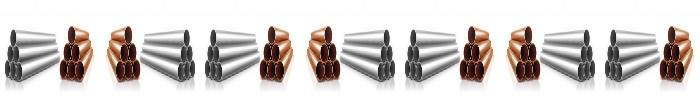pipe: (324, 61, 333, 80), (267, 61, 276, 80), (467, 61, 476, 80), (124, 61, 133, 80), (524, 61, 533, 80), (67, 61, 76, 80), (667, 61, 676, 80), (316, 60, 324, 80), (276, 60, 284, 80), (476, 60, 484, 80), (116, 60, 124, 80), (516, 60, 524, 80), (76, 60, 84, 80), (676, 60, 684, 80), (329, 43, 337, 62), (263, 43, 271, 62), (463, 43, 471, 62), (129, 43, 137, 62), (529, 43, 537, 62), (63, 43, 71, 62), (663, 43, 671, 62), (320, 44, 328, 62), (272, 44, 280, 62), (472, 44, 480, 62), (120, 44, 128, 62), (520, 44, 528, 62), (72, 44, 80, 62), (672, 44, 680, 62), (325, 26, 332, 44), (333, 60, 340, 78), (268, 26, 275, 44), (468, 26, 475, 44), (125, 26, 132, 44), (525, 26, 532, 44), (68, 26, 75, 44), (668, 26, 675, 44), (260, 60, 267, 78), (460, 60, 467, 78), (133, 60, 140, 78), (533, 60, 540, 78), (60, 60, 67, 78), (660, 60, 667, 78), (378, 62, 384, 81), (381, 45, 387, 64), (216, 62, 222, 81), (416, 62, 422, 81), (178, 62, 184, 81), (578, 62, 584, 81), (16, 62, 22, 81), (616, 62, 622, 81), (213, 45, 219, 64), (413, 45, 419, 64), (181, 45, 187, 64), (581, 45, 587, 64), (13, 45, 19, 64), (613, 45, 619, 64), (384, 61, 390, 79), (210, 61, 216, 79), (410, 61, 416, 79), (184, 61, 190, 79), (584, 61, 590, 79), (10, 61, 16, 79), (610, 61, 616, 79), (384, 30, 390, 47), (387, 46, 393, 63), (210, 30, 216, 47), (410, 30, 416, 47), (184, 30, 190, 47), (584, 30, 590, 47), (10, 30, 16, 47), (610, 30, 616, 47), (207, 46, 213, 63), (407, 46, 413, 63), (187, 46, 193, 63), (587, 46, 593, 63), (7, 46, 13, 63), (607, 46, 613, 63), (390, 61, 395, 78), (205, 61, 210, 78), (405, 61, 410, 78), (190, 61, 195, 78), (590, 61, 595, 78), (5, 61, 10, 78), (605, 61, 610, 78)
